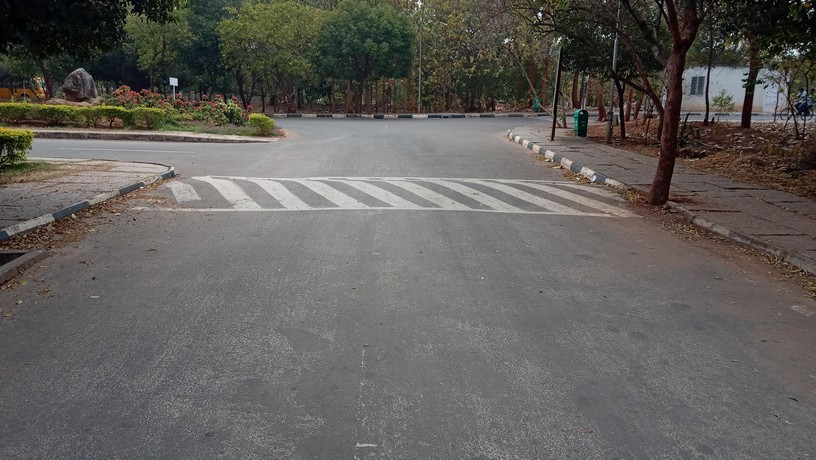bump: (113, 174, 635, 218)
